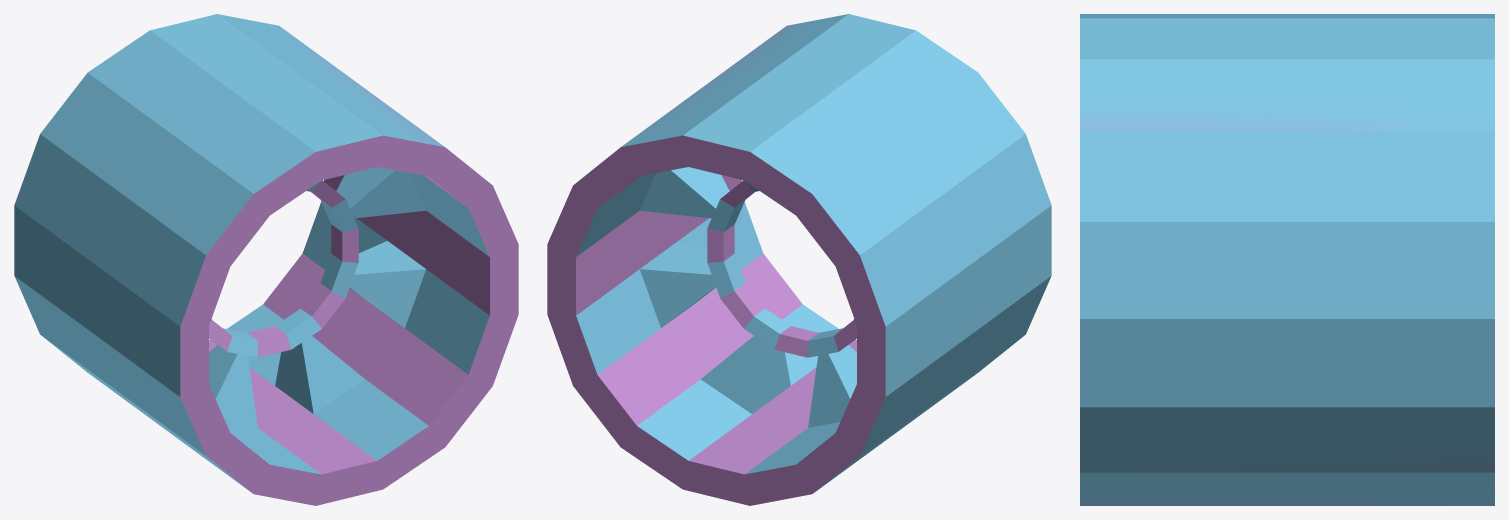
Rendered from Tonnel_Holes.fbx.
3 renders of one model, left to right at view 1: azimuth 30°, elevation 25°; view 2: azimuth 150°, elevation 25°; view 3: azimuth 270°, elevation 25°, orthographic. The views are drawn at different scales.
Parts seen in each view (by area): view 1: Tonnel_Holes; view 2: Tonnel_Holes; view 3: Tonnel_Holes.
Boxes of the visible parts, x1=… form: Tonnel_Holes: x1=14, y1=14, x2=518, y2=505; Tonnel_Holes: x1=547, y1=14, x2=1051, y2=505; Tonnel_Holes: x1=1080, y1=14, x2=1494, y2=505.
Size of the model in its own units: 2354 by 2354 by 2000.
Materials: 1 (1 with a texture image).
